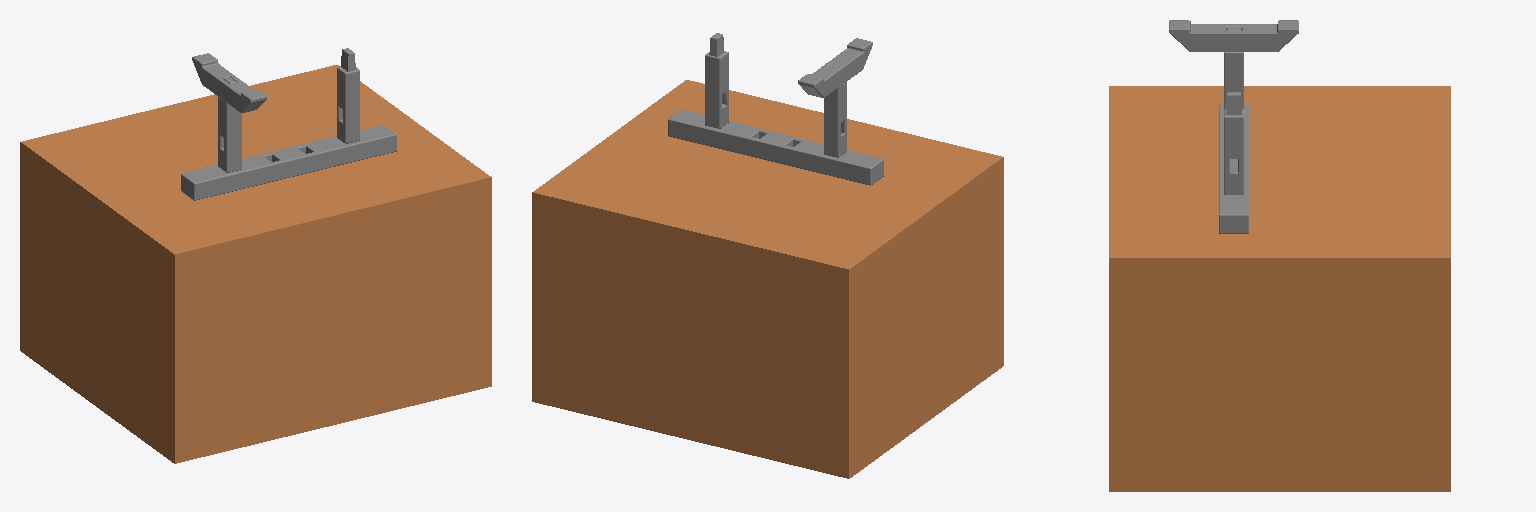
robot.urdf — table_beam_2x_1_scene_0030:
<?xml version="1.0"?>
<robot name="table_beam_2x_1_scene_0030">
  <link name="box">
    <visual>
      <material name="wood"><color rgba="0.82 0.56 0.35 1.0"/></material>
      <origin xyz="0 0 0"/>
      <geometry><box size="0.475 0.4 0.3"/></geometry>
    </visual>
    <collision>
      <origin xyz="0 0 0"/>
      <geometry><box size="0.475 0.4 0.3"/></geometry>
    </collision>
    <inertial>
      <mass value="500"/>
      <friction value="1.0"/>
      <inertia ixx="1000.0" ixy="0.0" ixz="0.0" iyy="1000.0" iyz="0.0" izz="1000.0"/>
    </inertial>
  </link>
  <link name="part_6_canonical">
    <visual>
      <origin xyz="0 0 0" rpy="0 0 0"/>
      <geometry><mesh filename="../../6/6_canonical.obj" scale="1 1 1"/></geometry>
      <material name="placed_0"><color rgba="0.6 0.6 0.6 1.0"/></material>
    </visual>
    <collision>
      <origin xyz="0 0 0" rpy="0 0 0"/>
      <geometry><mesh filename="../../6/6_canonical.obj" scale="1 1 1"/></geometry>
    </collision>
  </link>
  <joint name="part_6_canonical_joint" type="fixed">
    <parent link="box"/>
    <child link="part_6_canonical"/>
    <origin xyz="0.018648 -0.053569 0.162666" rpy="0.000000 0.000000 0.000000"/>
  </joint>
  <link name="part_2_canonical">
    <visual>
      <origin xyz="0 0 0" rpy="0 0 0"/>
      <geometry><mesh filename="../../2/2_canonical.obj" scale="1 1 1"/></geometry>
      <material name="placed_1"><color rgba="0.6 0.6 0.6 1.0"/></material>
    </visual>
    <collision>
      <origin xyz="0 0 0" rpy="0 0 0"/>
      <geometry><mesh filename="../../2/2_canonical.obj" scale="1 1 1"/></geometry>
    </collision>
  </link>
  <joint name="part_2_canonical_joint" type="fixed">
    <parent link="box"/>
    <child link="part_2_canonical"/>
    <origin xyz="-0.070279 -0.053569 0.225384" rpy="0.000000 -1.570796 0.000000"/>
  </joint>
  <link name="part_0_canonical">
    <visual>
      <origin xyz="0 0 0" rpy="0 0 0"/>
      <geometry><mesh filename="../../0/0_canonical.obj" scale="1 1 1"/></geometry>
      <material name="placed_2"><color rgba="0.6 0.6 0.6 1.0"/></material>
    </visual>
    <collision>
      <origin xyz="0 0 0" rpy="0 0 0"/>
      <geometry><mesh filename="../../0/0_canonical.obj" scale="1 1 1"/></geometry>
    </collision>
  </link>
  <joint name="part_0_canonical_joint" type="fixed">
    <parent link="box"/>
    <child link="part_0_canonical"/>
    <origin xyz="-0.070252 -0.053569 0.292243" rpy="1.570796 0.000000 -1.570796"/>
  </joint>
  <link name="part_3_hull_0">
    <visual>
      <origin xyz="0 0 0" rpy="0 0 0"/>
      <geometry><mesh filename="../../3/coacd/decomp_0.obj" scale="1 1 1"/></geometry>
      <material name="placed_3"><color rgba="0.6 0.6 0.6 1.0"/></material>
    </visual>
    <collision>
      <origin xyz="0 0 0" rpy="0 0 0"/>
      <geometry><mesh filename="../../3/coacd/decomp_0.obj" scale="1 1 1"/></geometry>
    </collision>
  </link>
  <joint name="part_3_hull_0_joint" type="fixed">
    <parent link="box"/>
    <child link="part_3_hull_0"/>
    <origin xyz="0.107575 -0.053569 0.225384" rpy="0.000000 -1.570796 0.000000"/>
  </joint>
  <link name="part_3_hull_1">
    <visual>
      <origin xyz="0 0 0" rpy="0 0 0"/>
      <geometry><mesh filename="../../3/coacd/decomp_1.obj" scale="1 1 1"/></geometry>
      <material name="placed_4"><color rgba="0.6 0.6 0.6 1.0"/></material>
    </visual>
    <collision>
      <origin xyz="0 0 0" rpy="0 0 0"/>
      <geometry><mesh filename="../../3/coacd/decomp_1.obj" scale="1 1 1"/></geometry>
    </collision>
  </link>
  <joint name="part_3_hull_1_joint" type="fixed">
    <parent link="box"/>
    <child link="part_3_hull_1"/>
    <origin xyz="0.107575 -0.053569 0.225384" rpy="0.000000 -1.570796 0.000000"/>
  </joint>
  <link name="part_3_hull_2">
    <visual>
      <origin xyz="0 0 0" rpy="0 0 0"/>
      <geometry><mesh filename="../../3/coacd/decomp_10.obj" scale="1 1 1"/></geometry>
      <material name="placed_5"><color rgba="0.6 0.6 0.6 1.0"/></material>
    </visual>
    <collision>
      <origin xyz="0 0 0" rpy="0 0 0"/>
      <geometry><mesh filename="../../3/coacd/decomp_10.obj" scale="1 1 1"/></geometry>
    </collision>
  </link>
  <joint name="part_3_hull_2_joint" type="fixed">
    <parent link="box"/>
    <child link="part_3_hull_2"/>
    <origin xyz="0.107575 -0.053569 0.225384" rpy="0.000000 -1.570796 0.000000"/>
  </joint>
  <link name="part_3_hull_3">
    <visual>
      <origin xyz="0 0 0" rpy="0 0 0"/>
      <geometry><mesh filename="../../3/coacd/decomp_11.obj" scale="1 1 1"/></geometry>
      <material name="placed_6"><color rgba="0.6 0.6 0.6 1.0"/></material>
    </visual>
    <collision>
      <origin xyz="0 0 0" rpy="0 0 0"/>
      <geometry><mesh filename="../../3/coacd/decomp_11.obj" scale="1 1 1"/></geometry>
    </collision>
  </link>
  <joint name="part_3_hull_3_joint" type="fixed">
    <parent link="box"/>
    <child link="part_3_hull_3"/>
    <origin xyz="0.107575 -0.053569 0.225384" rpy="0.000000 -1.570796 0.000000"/>
  </joint>
  <link name="part_3_hull_4">
    <visual>
      <origin xyz="0 0 0" rpy="0 0 0"/>
      <geometry><mesh filename="../../3/coacd/decomp_12.obj" scale="1 1 1"/></geometry>
      <material name="placed_7"><color rgba="0.6 0.6 0.6 1.0"/></material>
    </visual>
    <collision>
      <origin xyz="0 0 0" rpy="0 0 0"/>
      <geometry><mesh filename="../../3/coacd/decomp_12.obj" scale="1 1 1"/></geometry>
    </collision>
  </link>
  <joint name="part_3_hull_4_joint" type="fixed">
    <parent link="box"/>
    <child link="part_3_hull_4"/>
    <origin xyz="0.107575 -0.053569 0.225384" rpy="0.000000 -1.570796 0.000000"/>
  </joint>
  <link name="part_3_hull_5">
    <visual>
      <origin xyz="0 0 0" rpy="0 0 0"/>
      <geometry><mesh filename="../../3/coacd/decomp_2.obj" scale="1 1 1"/></geometry>
      <material name="placed_8"><color rgba="0.6 0.6 0.6 1.0"/></material>
    </visual>
    <collision>
      <origin xyz="0 0 0" rpy="0 0 0"/>
      <geometry><mesh filename="../../3/coacd/decomp_2.obj" scale="1 1 1"/></geometry>
    </collision>
  </link>
  <joint name="part_3_hull_5_joint" type="fixed">
    <parent link="box"/>
    <child link="part_3_hull_5"/>
    <origin xyz="0.107575 -0.053569 0.225384" rpy="0.000000 -1.570796 0.000000"/>
  </joint>
  <link name="part_3_hull_6">
    <visual>
      <origin xyz="0 0 0" rpy="0 0 0"/>
      <geometry><mesh filename="../../3/coacd/decomp_3.obj" scale="1 1 1"/></geometry>
      <material name="placed_9"><color rgba="0.6 0.6 0.6 1.0"/></material>
    </visual>
    <collision>
      <origin xyz="0 0 0" rpy="0 0 0"/>
      <geometry><mesh filename="../../3/coacd/decomp_3.obj" scale="1 1 1"/></geometry>
    </collision>
  </link>
  <joint name="part_3_hull_6_joint" type="fixed">
    <parent link="box"/>
    <child link="part_3_hull_6"/>
    <origin xyz="0.107575 -0.053569 0.225384" rpy="0.000000 -1.570796 0.000000"/>
  </joint>
  <link name="part_3_hull_7">
    <visual>
      <origin xyz="0 0 0" rpy="0 0 0"/>
      <geometry><mesh filename="../../3/coacd/decomp_4.obj" scale="1 1 1"/></geometry>
      <material name="placed_10"><color rgba="0.6 0.6 0.6 1.0"/></material>
    </visual>
    <collision>
      <origin xyz="0 0 0" rpy="0 0 0"/>
      <geometry><mesh filename="../../3/coacd/decomp_4.obj" scale="1 1 1"/></geometry>
    </collision>
  </link>
  <joint name="part_3_hull_7_joint" type="fixed">
    <parent link="box"/>
    <child link="part_3_hull_7"/>
    <origin xyz="0.107575 -0.053569 0.225384" rpy="0.000000 -1.570796 0.000000"/>
  </joint>
  <link name="part_3_hull_8">
    <visual>
      <origin xyz="0 0 0" rpy="0 0 0"/>
      <geometry><mesh filename="../../3/coacd/decomp_5.obj" scale="1 1 1"/></geometry>
      <material name="placed_11"><color rgba="0.6 0.6 0.6 1.0"/></material>
    </visual>
    <collision>
      <origin xyz="0 0 0" rpy="0 0 0"/>
      <geometry><mesh filename="../../3/coacd/decomp_5.obj" scale="1 1 1"/></geometry>
    </collision>
  </link>
  <joint name="part_3_hull_8_joint" type="fixed">
    <parent link="box"/>
    <child link="part_3_hull_8"/>
    <origin xyz="0.107575 -0.053569 0.225384" rpy="0.000000 -1.570796 0.000000"/>
  </joint>
  <link name="part_3_hull_9">
    <visual>
      <origin xyz="0 0 0" rpy="0 0 0"/>
      <geometry><mesh filename="../../3/coacd/decomp_6.obj" scale="1 1 1"/></geometry>
      <material name="placed_12"><color rgba="0.6 0.6 0.6 1.0"/></material>
    </visual>
    <collision>
      <origin xyz="0 0 0" rpy="0 0 0"/>
      <geometry><mesh filename="../../3/coacd/decomp_6.obj" scale="1 1 1"/></geometry>
    </collision>
  </link>
  <joint name="part_3_hull_9_joint" type="fixed">
    <parent link="box"/>
    <child link="part_3_hull_9"/>
    <origin xyz="0.107575 -0.053569 0.225384" rpy="0.000000 -1.570796 0.000000"/>
  </joint>
  <link name="part_3_hull_10">
    <visual>
      <origin xyz="0 0 0" rpy="0 0 0"/>
      <geometry><mesh filename="../../3/coacd/decomp_7.obj" scale="1 1 1"/></geometry>
      <material name="placed_13"><color rgba="0.6 0.6 0.6 1.0"/></material>
    </visual>
    <collision>
      <origin xyz="0 0 0" rpy="0 0 0"/>
      <geometry><mesh filename="../../3/coacd/decomp_7.obj" scale="1 1 1"/></geometry>
    </collision>
  </link>
  <joint name="part_3_hull_10_joint" type="fixed">
    <parent link="box"/>
    <child link="part_3_hull_10"/>
    <origin xyz="0.107575 -0.053569 0.225384" rpy="0.000000 -1.570796 0.000000"/>
  </joint>
  <link name="part_3_hull_11">
    <visual>
      <origin xyz="0 0 0" rpy="0 0 0"/>
      <geometry><mesh filename="../../3/coacd/decomp_8.obj" scale="1 1 1"/></geometry>
      <material name="placed_14"><color rgba="0.6 0.6 0.6 1.0"/></material>
    </visual>
    <collision>
      <origin xyz="0 0 0" rpy="0 0 0"/>
      <geometry><mesh filename="../../3/coacd/decomp_8.obj" scale="1 1 1"/></geometry>
    </collision>
  </link>
  <joint name="part_3_hull_11_joint" type="fixed">
    <parent link="box"/>
    <child link="part_3_hull_11"/>
    <origin xyz="0.107575 -0.053569 0.225384" rpy="0.000000 -1.570796 0.000000"/>
  </joint>
  <link name="part_3_hull_12">
    <visual>
      <origin xyz="0 0 0" rpy="0 0 0"/>
      <geometry><mesh filename="../../3/coacd/decomp_9.obj" scale="1 1 1"/></geometry>
      <material name="placed_15"><color rgba="0.6 0.6 0.6 1.0"/></material>
    </visual>
    <collision>
      <origin xyz="0 0 0" rpy="0 0 0"/>
      <geometry><mesh filename="../../3/coacd/decomp_9.obj" scale="1 1 1"/></geometry>
    </collision>
  </link>
  <joint name="part_3_hull_12_joint" type="fixed">
    <parent link="box"/>
    <child link="part_3_hull_12"/>
    <origin xyz="0.107575 -0.053569 0.225384" rpy="0.000000 -1.570796 0.000000"/>
  </joint>
</robot>

--- Facts derived from the render (not from the file) ---
The picture shows the robot from 3 angles, left to right: view 1: azimuth 30°, elevation 25°; view 2: azimuth 150°, elevation 25°; view 3: azimuth 270°, elevation 25°; orthographic projection.
Model table_beam_2x_1_scene_0030 with 17 links and 16 joints (16 fixed), rooted at box, posed every joint at zero.
Links seen in each view (by area): view 1: box, part_6_canonical, part_0_canonical, part_2_canonical, part_3_hull_7; view 2: box, part_6_canonical, part_0_canonical, part_2_canonical, part_3_hull_11; view 3: box, part_0_canonical, part_6_canonical, part_2_canonical, part_3_hull_0.
Boxes of the visible links, x1,y1,x2,y2 form: box: (20,65,491,463); part_6_canonical: (181,125,396,200); part_0_canonical: (192,53,266,112); part_2_canonical: (218,77,241,172); part_3_hull_7: (347,70,356,142); box: (532,80,1003,478); part_6_canonical: (668,110,883,185); part_0_canonical: (798,38,872,97); part_2_canonical: (824,62,846,157); part_3_hull_11: (708,55,715,127); box: (1109,86,1450,491); part_0_canonical: (1169,20,1298,51); part_6_canonical: (1219,105,1248,233); part_2_canonical: (1224,27,1243,108); part_3_hull_0: (1224,115,1243,158).
Size in the robot's own frame: 0.475 by 0.4 by 0.4575 metres.
16 mesh visuals loaded from 16 distinct referenced files (16 OBJ).
